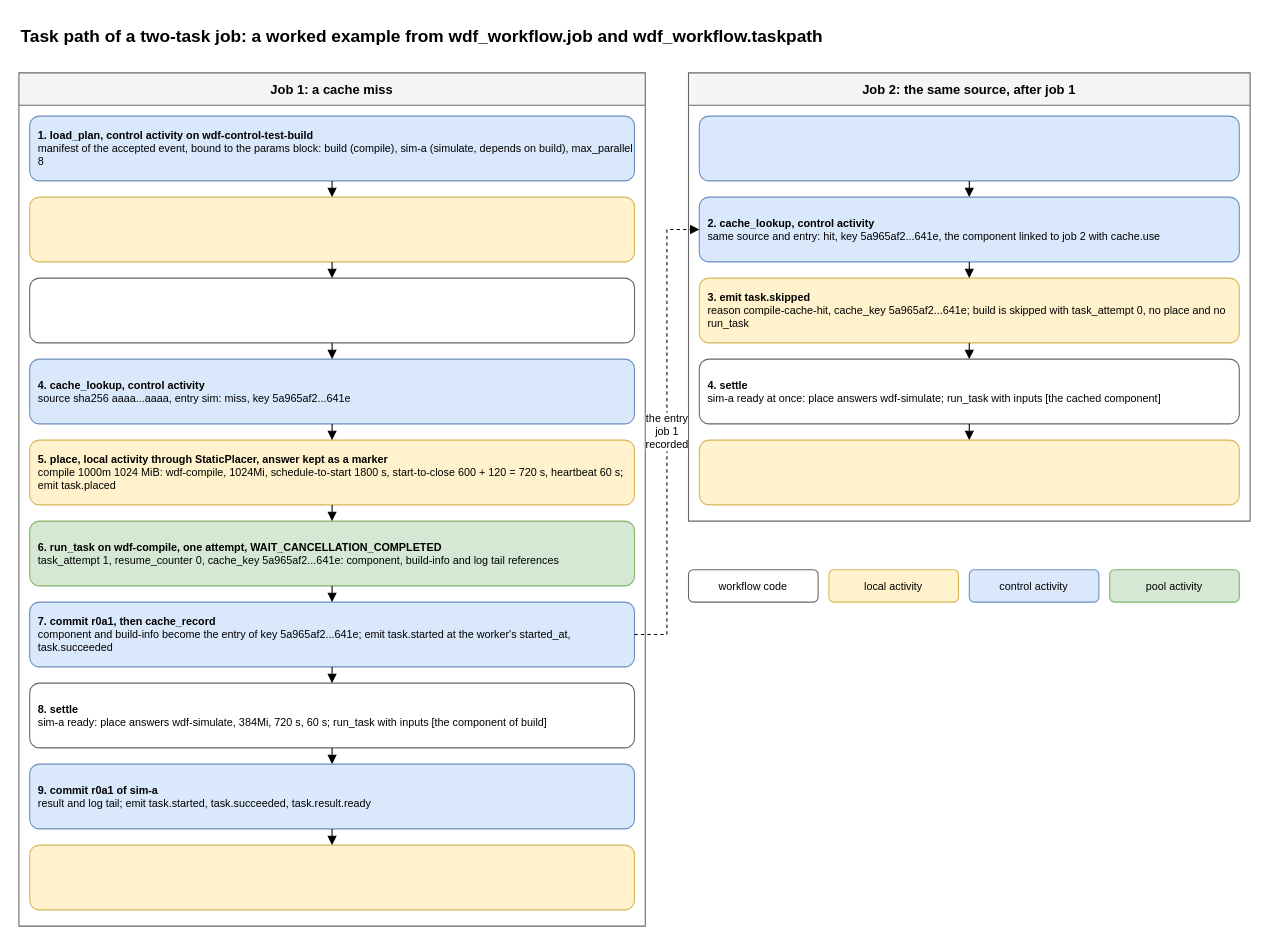
This 1269x945 diagram has some shape labels left out. The shapes that lost their labels are listed below. From the top down, each one's centre as x and y in pixels, then its label:
At (x=968, y=148): "1. load_plan and job.started, as job 1".
At (x=331, y=229): "2. emit, local activity job.started, row admitted to running".
At (x=331, y=310): "3. ready loop ready [build], 0 of 8 running, so build starts".
At (x=968, y=472): "5. outcome succeeded emit job.succeeded".
At (x=331, y=877): "10. outcome succeeded emit job.succeeded, row running to succeeded".
